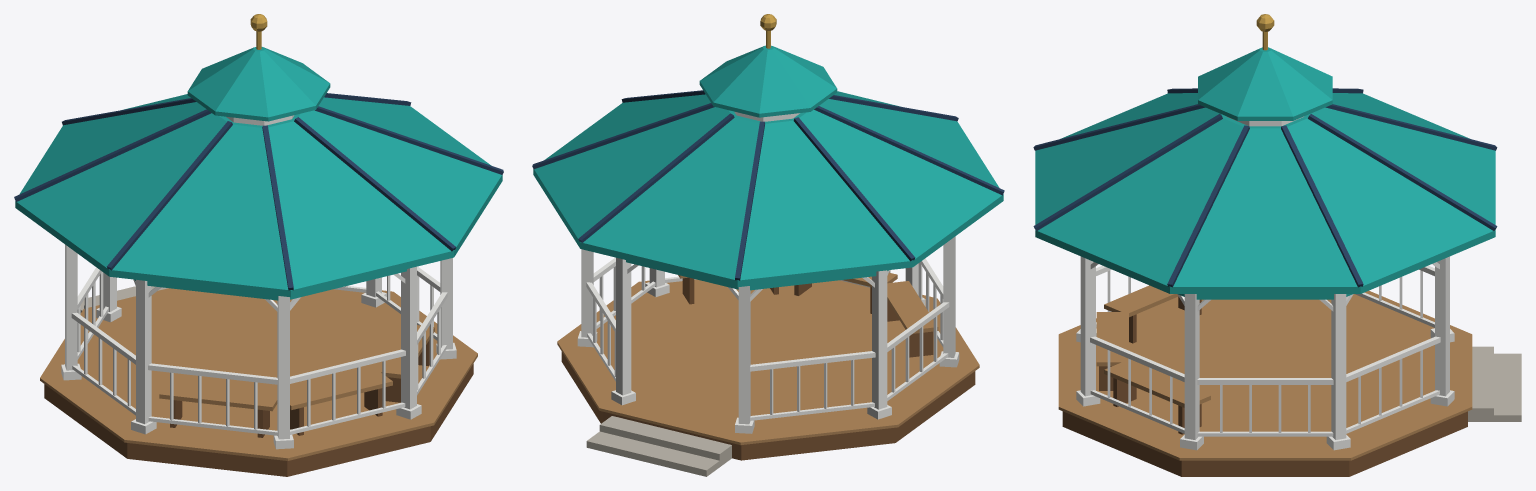
File: gazebo.glb
3 views of the same model, side by side, from view 1: azimuth 30°, elevation 25°; view 2: azimuth 150°, elevation 25°; view 3: azimuth 270°, elevation 25° (orthographic). The views are drawn at different scales.
Visible parts, largest first — view 1: Gazebo; view 2: Gazebo; view 3: Gazebo.
Boxes of the visible parts, x1=… form: Gazebo: x1=14, y1=14, x2=503, y2=476; Gazebo: x1=532, y1=14, x2=1004, y2=476; Gazebo: x1=1033, y1=14, x2=1521, y2=476.
Size of the model in its own units: 6.05 by 5.42 by 6.37.
